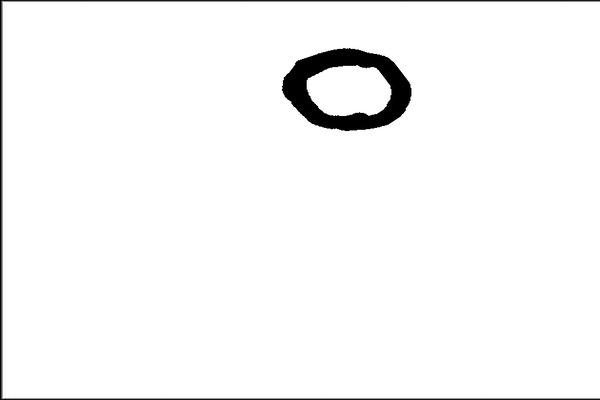O: (275, 36, 415, 140)
